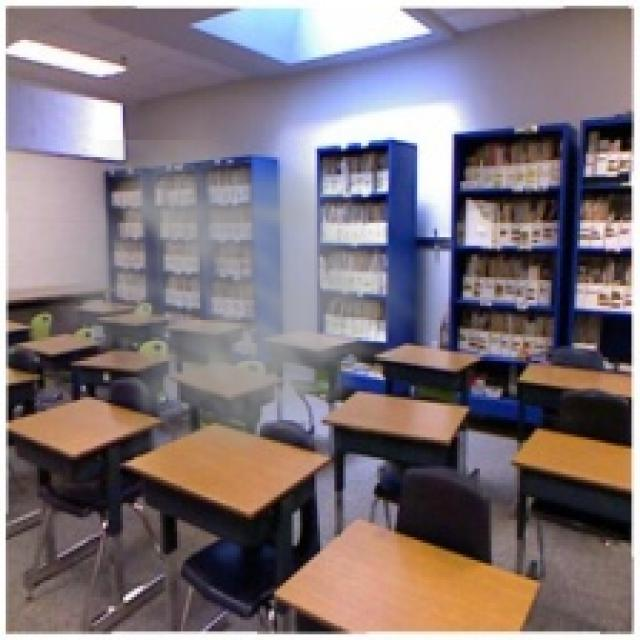smoke: (26, 140, 437, 489)
